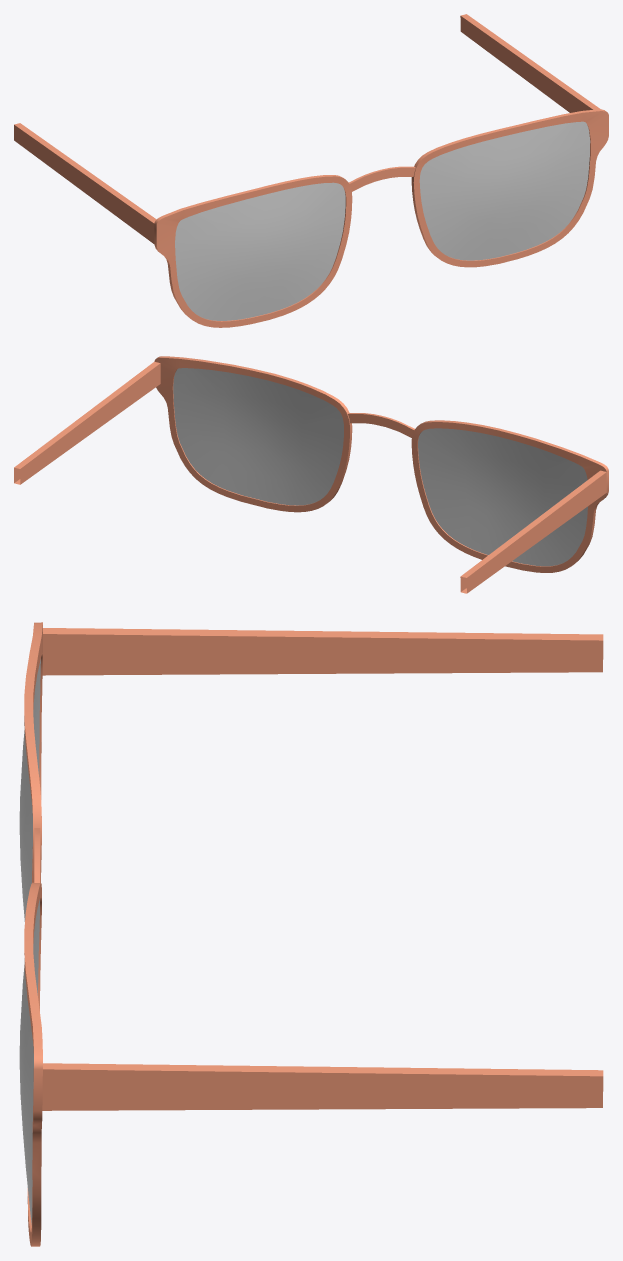
The model's file is PRADA Glasses Optimized Cutoff.fbx.
3 renders of one model, top to bottom at view 1: azimuth 30°, elevation 25°; view 2: azimuth 150°, elevation 25°; view 3: azimuth 270°, elevation 25°, orthographic. The views are drawn at different scales.
Visible parts, largest first — view 1: PRADA Glasses Optimized Cutoff; view 2: PRADA Glasses Optimized Cutoff; view 3: PRADA Glasses Optimized Cutoff.
Boxes of the visible parts, left/top/right/bottom form: PRADA Glasses Optimized Cutoff: left=14, top=14, right=608, bottom=327; PRADA Glasses Optimized Cutoff: left=14, top=356, right=608, bottom=593; PRADA Glasses Optimized Cutoff: left=19, top=622, right=603, bottom=1246.
Bounding box in the file's own units: 0.1671 × 0.0471 × 0.0933.
